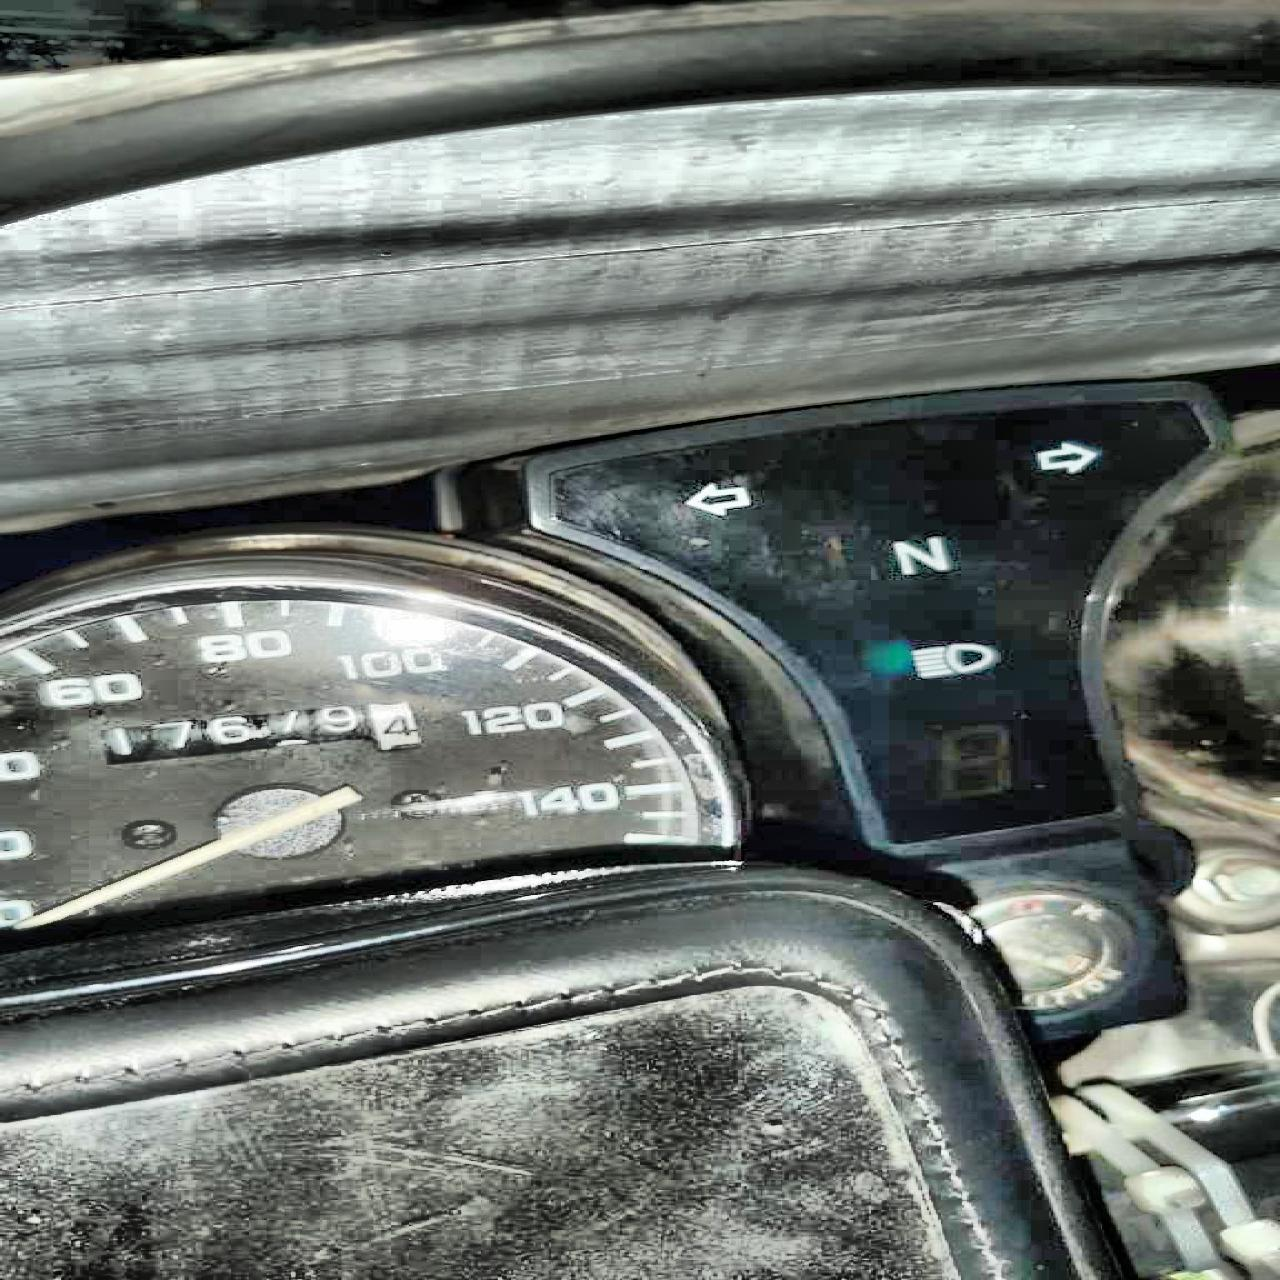1: (104, 724, 136, 757)
6: (205, 714, 251, 744)
7: (149, 723, 188, 753), (280, 704, 300, 734)
9: (313, 703, 355, 733), (380, 713, 420, 736)
odometer: (87, 696, 424, 765)
